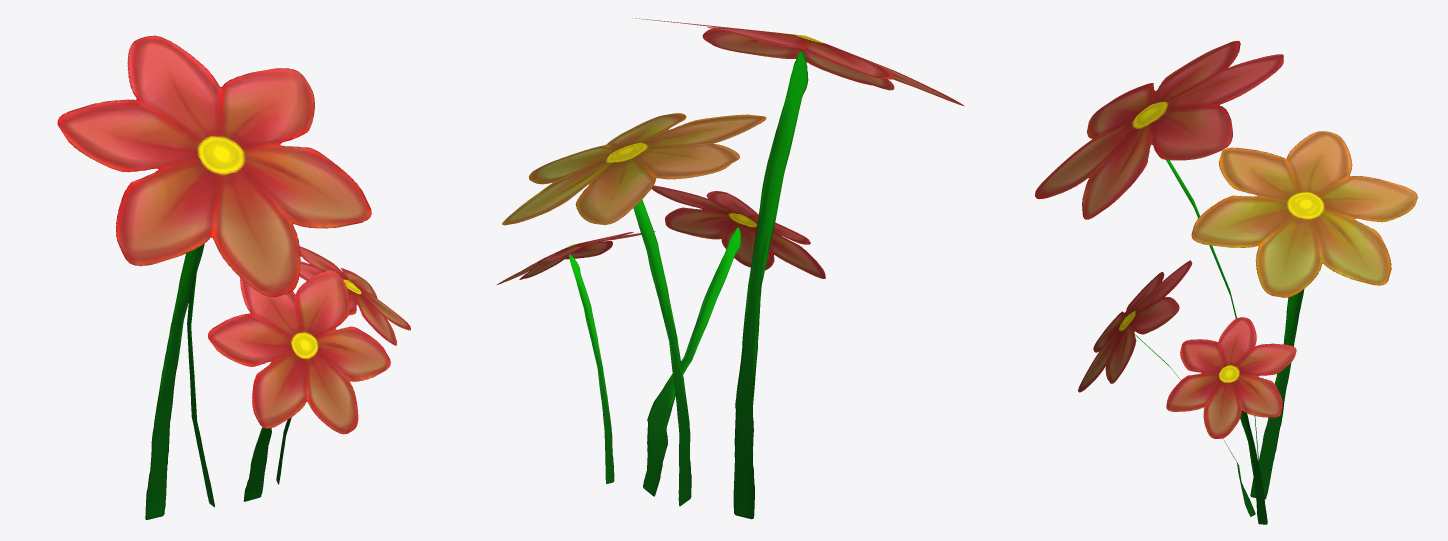
File: 9_Flor_Triple.fbx
3 views of the same model, side by side, from view 1: azimuth 30°, elevation 25°; view 2: azimuth 150°, elevation 25°; view 3: azimuth 270°, elevation 25° (orthographic). The views are drawn at different scales.
Visible parts, largest first — view 1: Flor1.002; view 2: Flor1.002; view 3: Flor1.002.
Boxes of the visible parts, x1,y1,x2,y2 form: Flor1.002: (57, 35, 410, 519); Flor1.002: (497, 18, 964, 519); Flor1.002: (1035, 40, 1417, 524).
Bounding box in the file's own units: 31.65 × 39.22 × 33.54.
